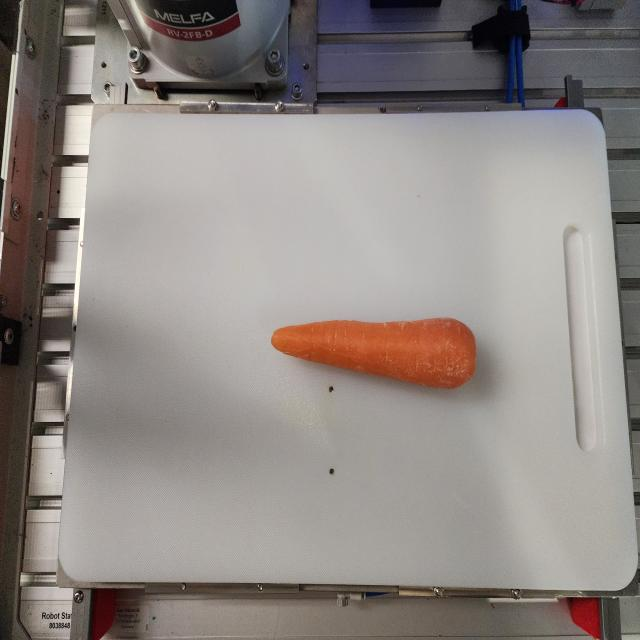carrot: (270, 316, 477, 391)
